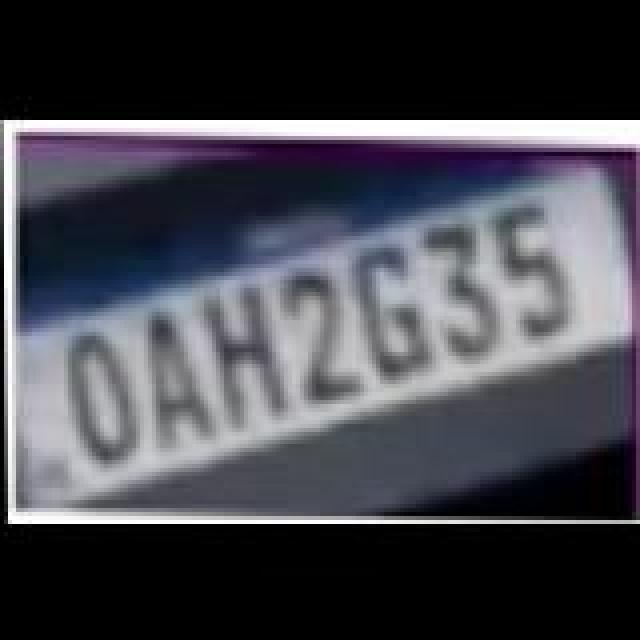2: (278, 264, 362, 400)
3: (424, 220, 504, 356)
5: (496, 200, 576, 336)
A: (140, 310, 220, 450)
G: (354, 238, 438, 378)
H: (198, 280, 290, 424)
O: (60, 332, 140, 468)
